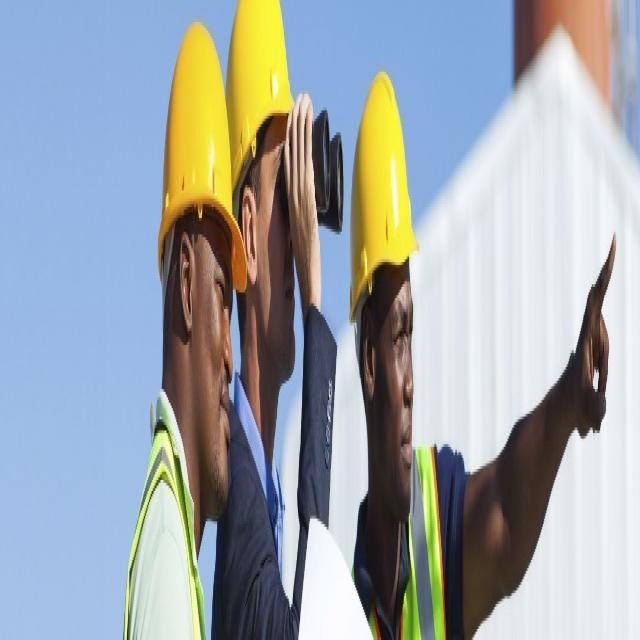Reflective-Jacket: (120, 400, 211, 637), (350, 436, 447, 640)
Safety-Helmet: (154, 14, 249, 312), (347, 61, 420, 337), (228, 8, 294, 199)
